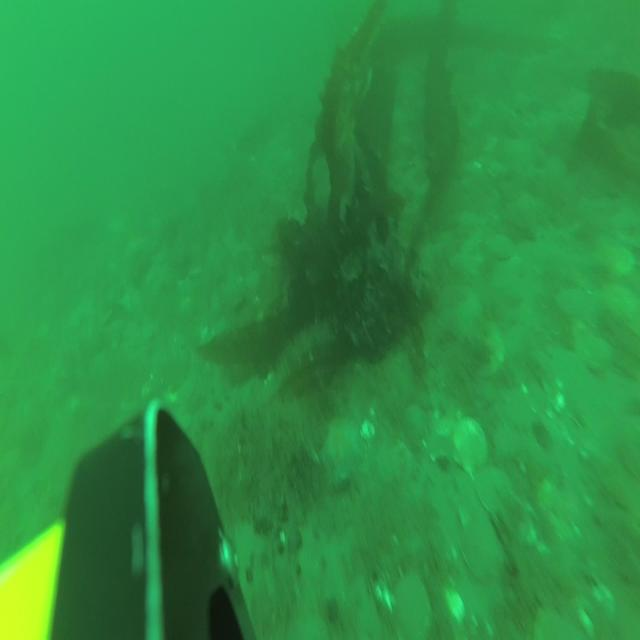scallop: (461, 516, 504, 585), (392, 578, 432, 638), (453, 418, 489, 474), (477, 466, 511, 522), (578, 326, 614, 376), (558, 282, 594, 324), (491, 233, 513, 262)
starfish: (322, 417, 360, 478)
